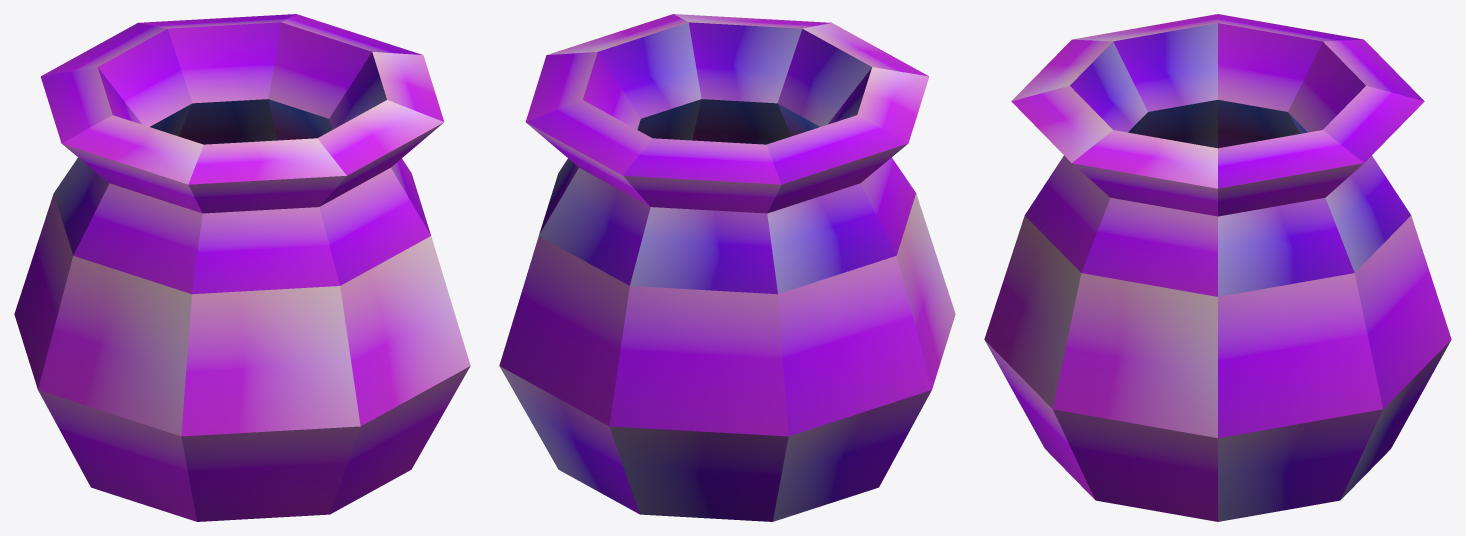
The model's file is pot.fbx.
3 renders of one model, left to right at view 1: azimuth 30°, elevation 25°; view 2: azimuth 150°, elevation 25°; view 3: azimuth 270°, elevation 25°, orthographic.
Visible parts, largest first — view 1: pot; view 2: pot; view 3: pot.
Boxes of the visible parts, left/top/right/bottom form: pot: left=14, top=14, right=470, bottom=521; pot: left=499, top=14, right=955, bottom=521; pot: left=984, top=14, right=1451, bottom=521.
Bounding box in the file's own units: 122 × 104 × 122.
